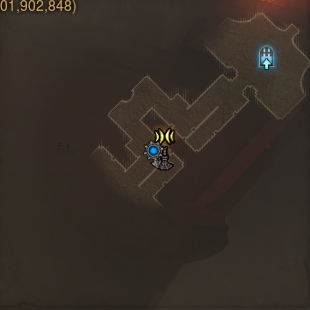ChannPylon: (151, 127, 176, 173)
